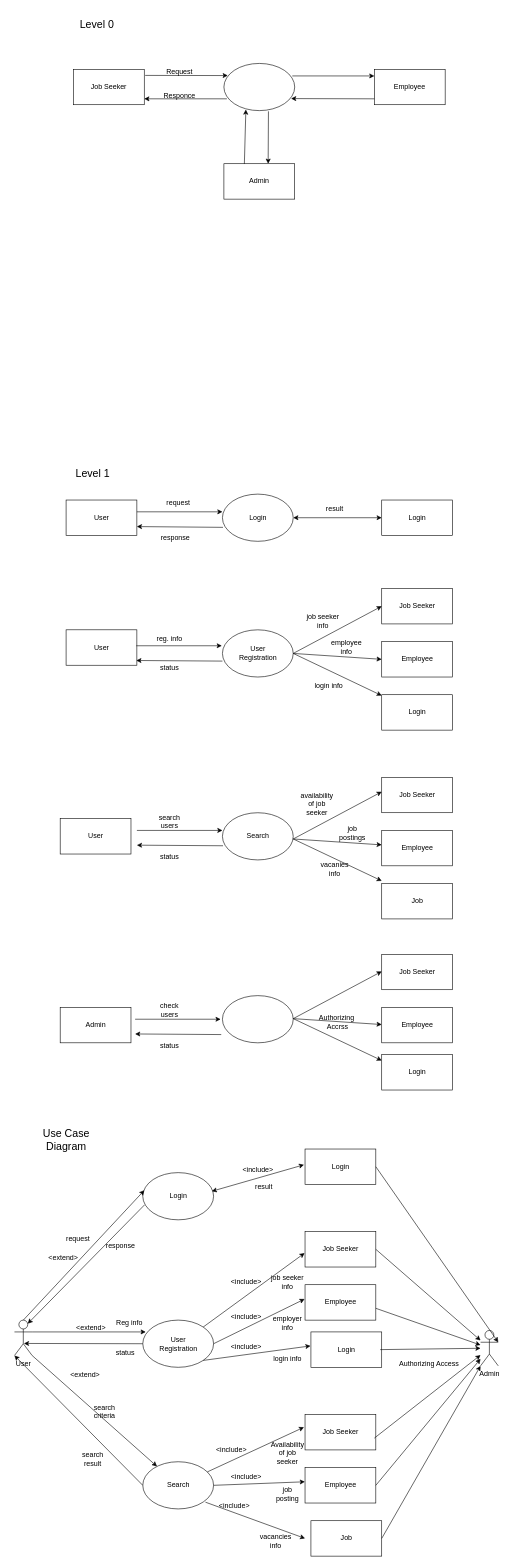
Some shapes in this 513 by 1566 pixel diagram are drawn without their labels. The box of each missing label's shape, as (x1, y1, x2, y2) in pixels:
Glass Door Website: (223, 63, 295, 111)
Manage Users: (222, 995, 293, 1043)
